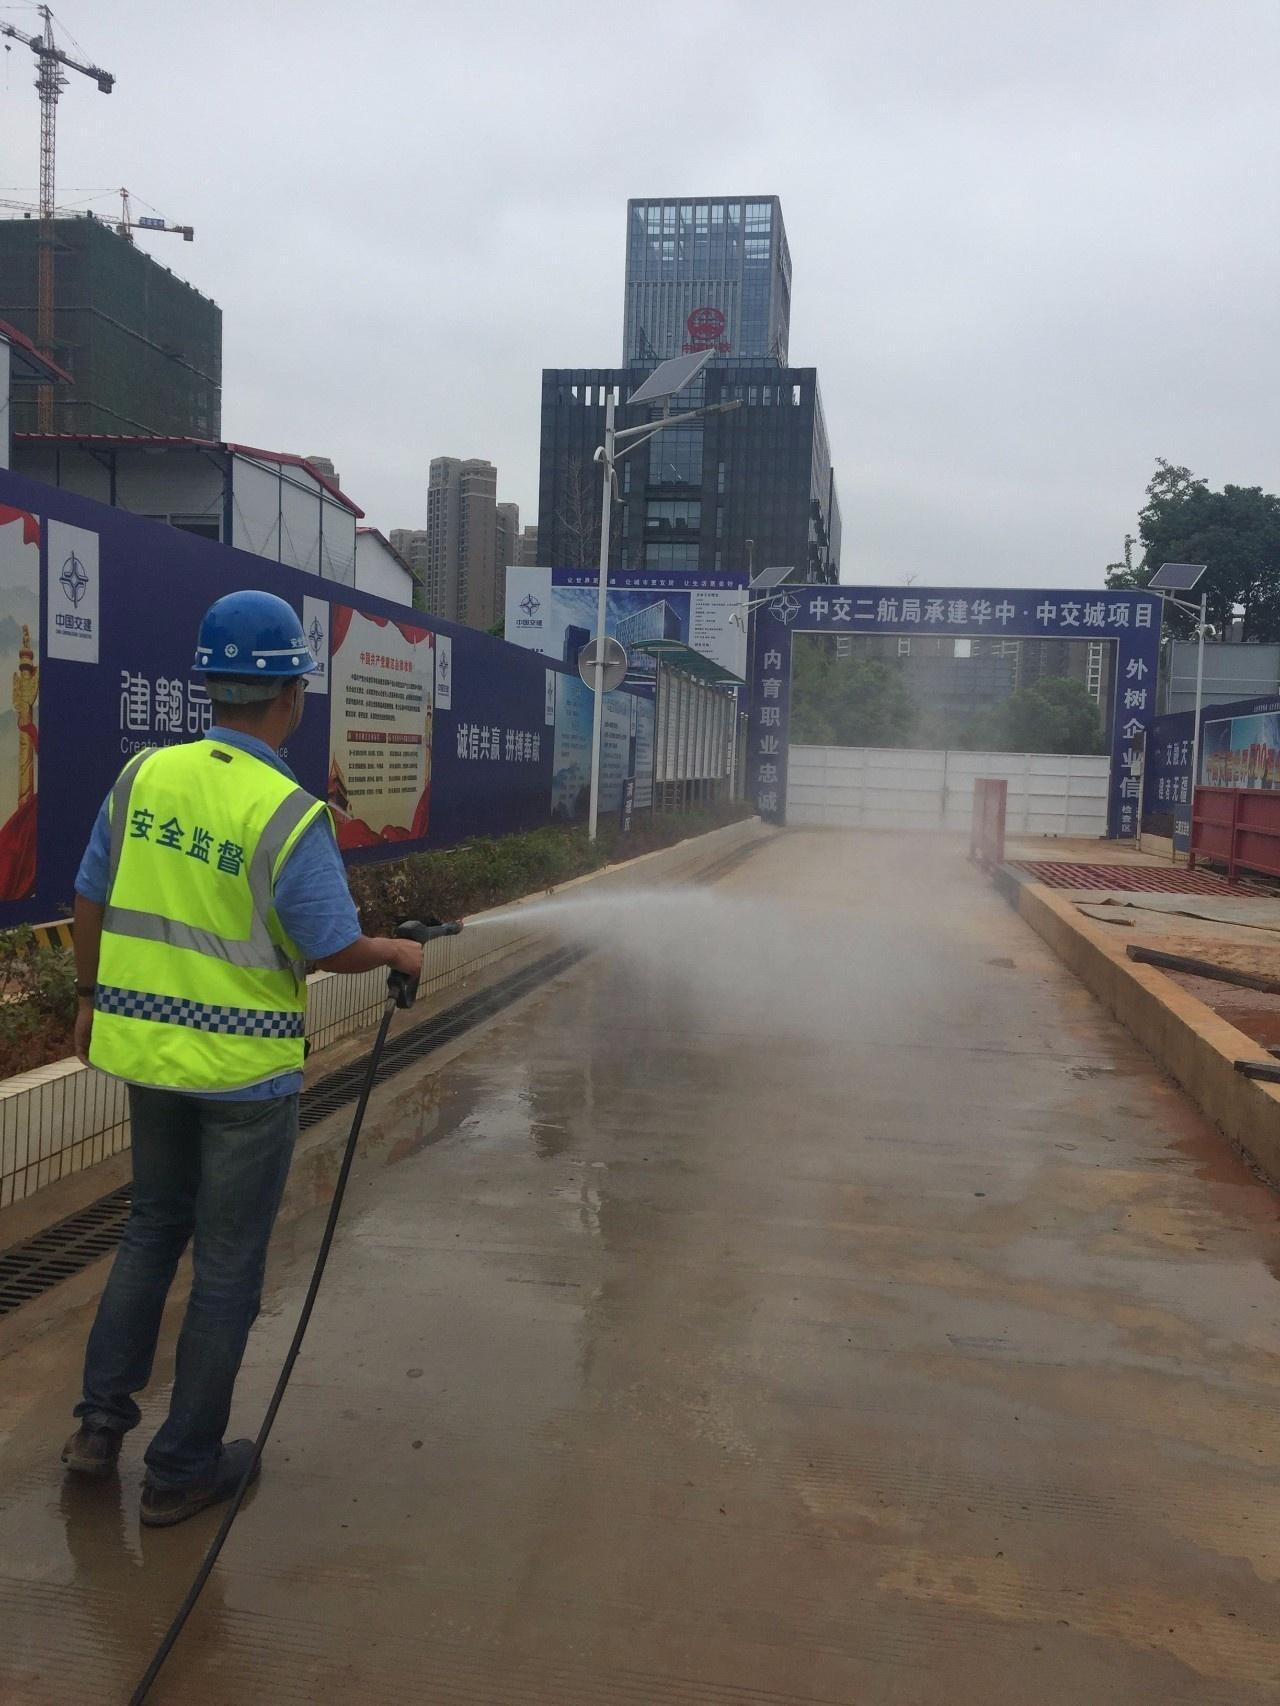helmet: (177, 593, 341, 696)
person: (57, 573, 415, 1526)
vest: (92, 723, 328, 1113)
